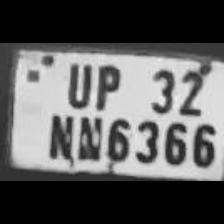2: (174, 64, 208, 116)
3: (145, 63, 175, 113), (132, 114, 158, 164)
6: (187, 119, 217, 170), (102, 115, 130, 163), (159, 118, 187, 166)
N: (44, 108, 74, 162)
P: (90, 60, 122, 110)
U: (60, 56, 92, 107)
